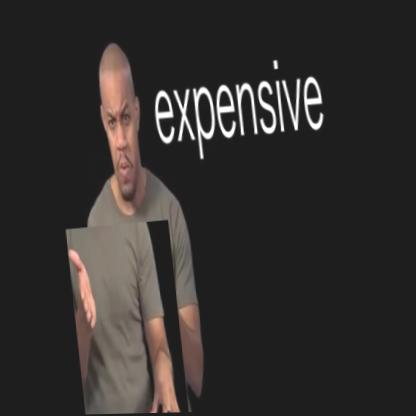Expensive: (63, 220, 185, 415)
